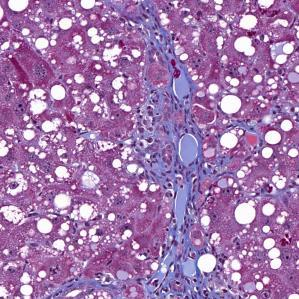fibrosis: (139, 81, 208, 194), (145, 225, 201, 299)
